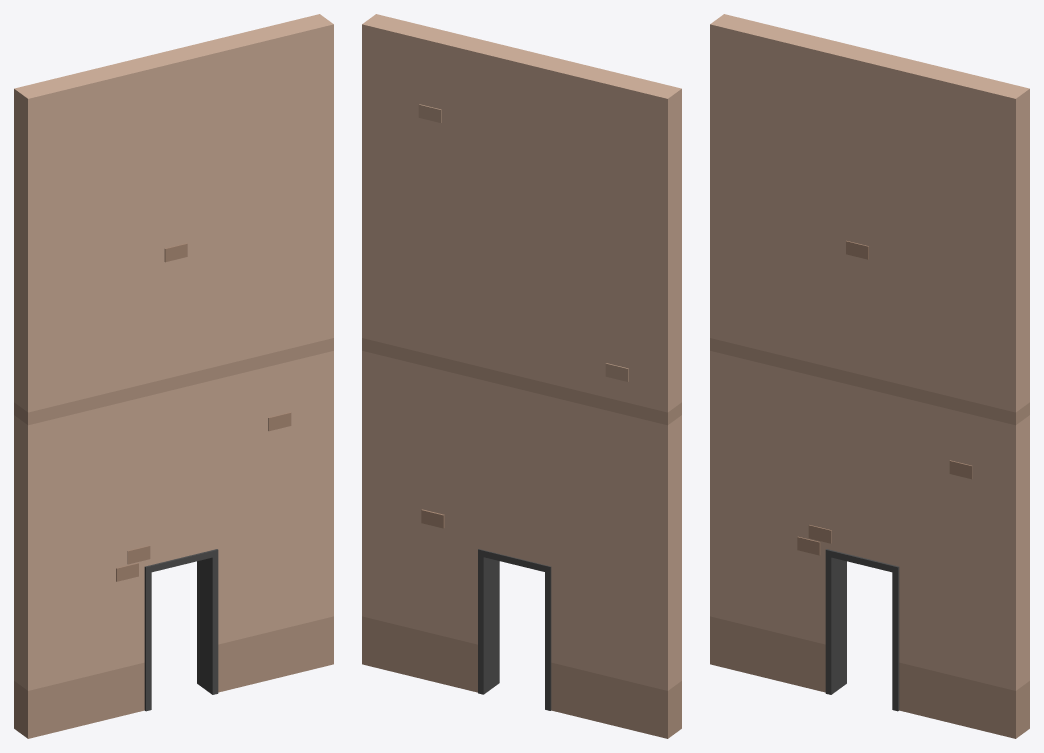
File: Wall_07.fbx
The picture shows the model from 3 angles, left to right: view 1: azimuth 30°, elevation 25°; view 2: azimuth 150°, elevation 25°; view 3: azimuth 330°, elevation 25°; orthographic projection.
Parts seen in each view (by area): view 1: Wall_07; view 2: Wall_07; view 3: Wall_07.
Boxes of the visible parts, x1=… form: Wall_07: x1=14, y1=14, x2=333, y2=738; Wall_07: x1=362, y1=14, x2=681, y2=738; Wall_07: x1=710, y1=14, x2=1029, y2=738.
Size of the model in its own units: 500 by 1000 by 45.73.
